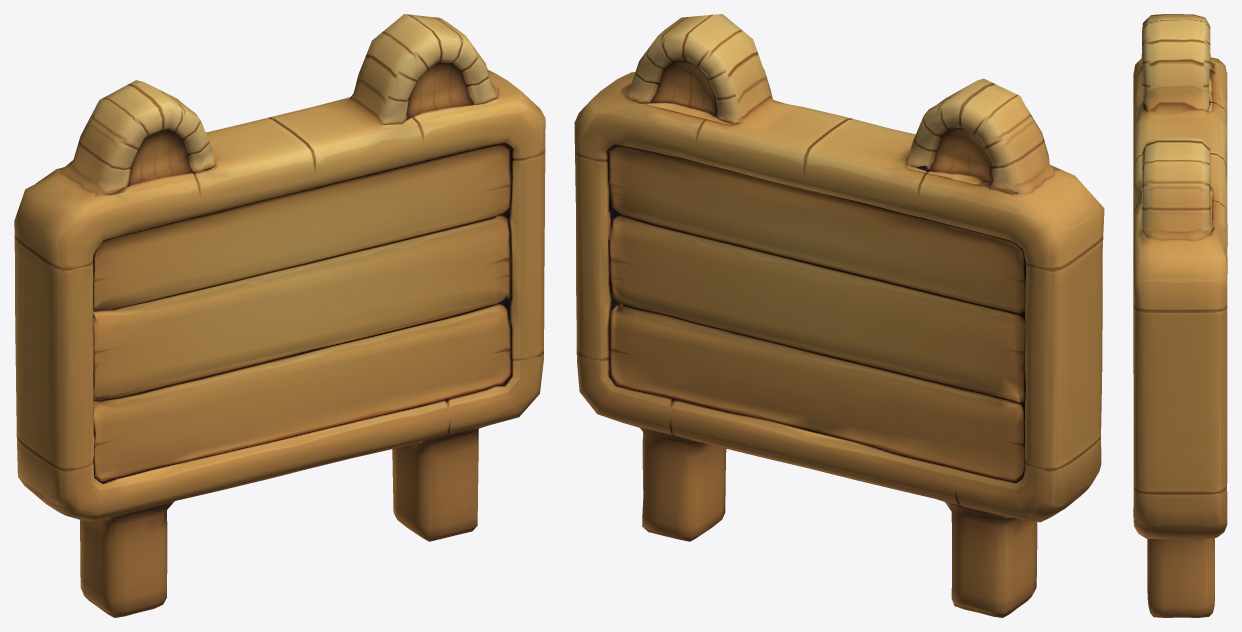
The model's file is tripo_convert_a2012721-9ba4-4914-8937-c6d33314b4a2.fbx.
3 views of the same model, side by side, from view 1: azimuth 30°, elevation 25°; view 2: azimuth 150°, elevation 25°; view 3: azimuth 270°, elevation 25° (orthographic). The views are drawn at different scales.
Visible parts, largest first — view 1: tripo_node_a2012721; view 2: tripo_node_a2012721; view 3: tripo_node_a2012721.
Part boxes in pixels (x1=…): tripo_node_a2012721: x1=14, y1=14, x2=545, y2=617; tripo_node_a2012721: x1=574, y1=14, x2=1104, y2=617; tripo_node_a2012721: x1=1133, y1=14, x2=1227, y2=617.
Bounding box in the file's own units: 0.9782 × 0.9675 × 0.179.
Materials: 1 (1 with a texture image).
